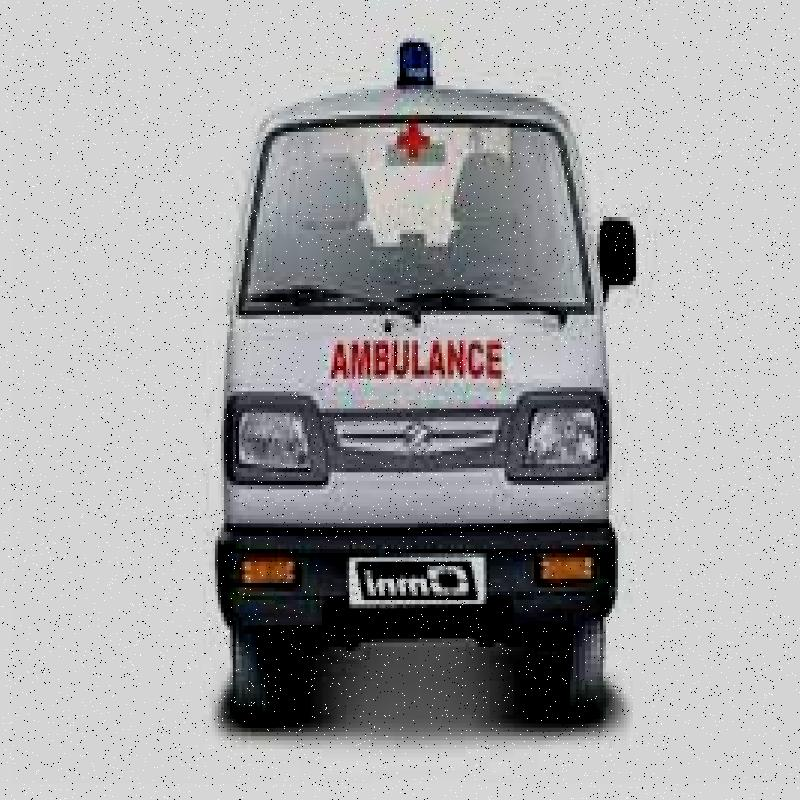AmbulanceSiren: (376, 35, 451, 97)
ambulance: (210, 19, 662, 752)
